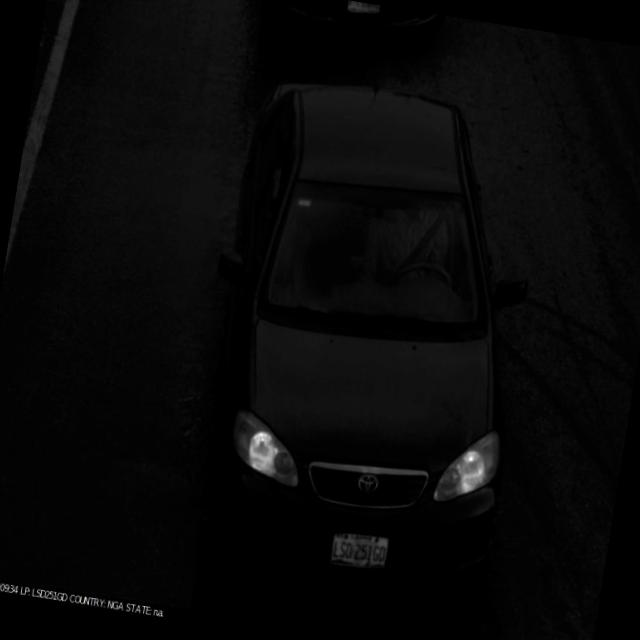person_with_seatbelt: (348, 180, 473, 331)
